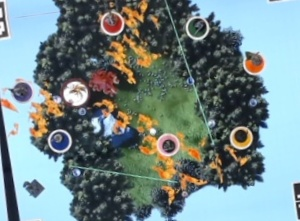blue: (45, 125, 74, 155)
green: (183, 12, 210, 42)
orange: (239, 51, 267, 77)
pink: (153, 129, 182, 159)
red: (97, 7, 126, 36)
violet: (7, 78, 35, 104)
yellow: (225, 121, 256, 151)
